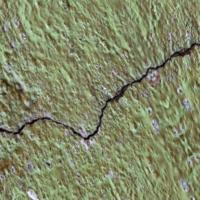crack: (0, 43, 199, 148)
